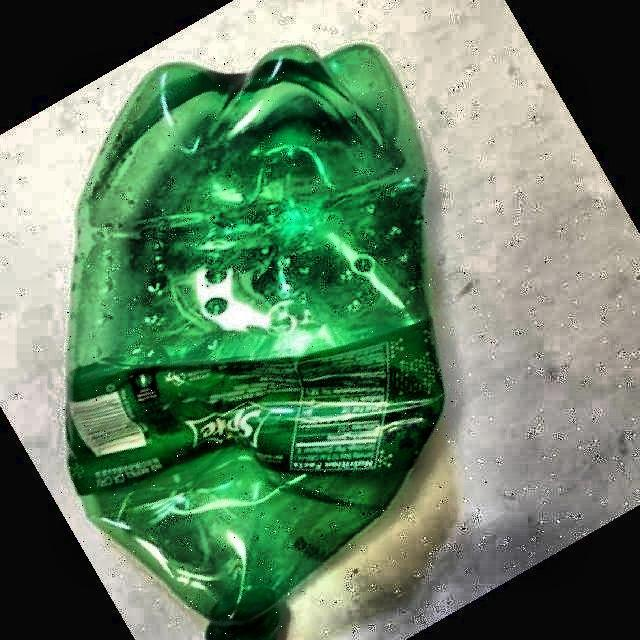plastic: (66, 45, 444, 640)
